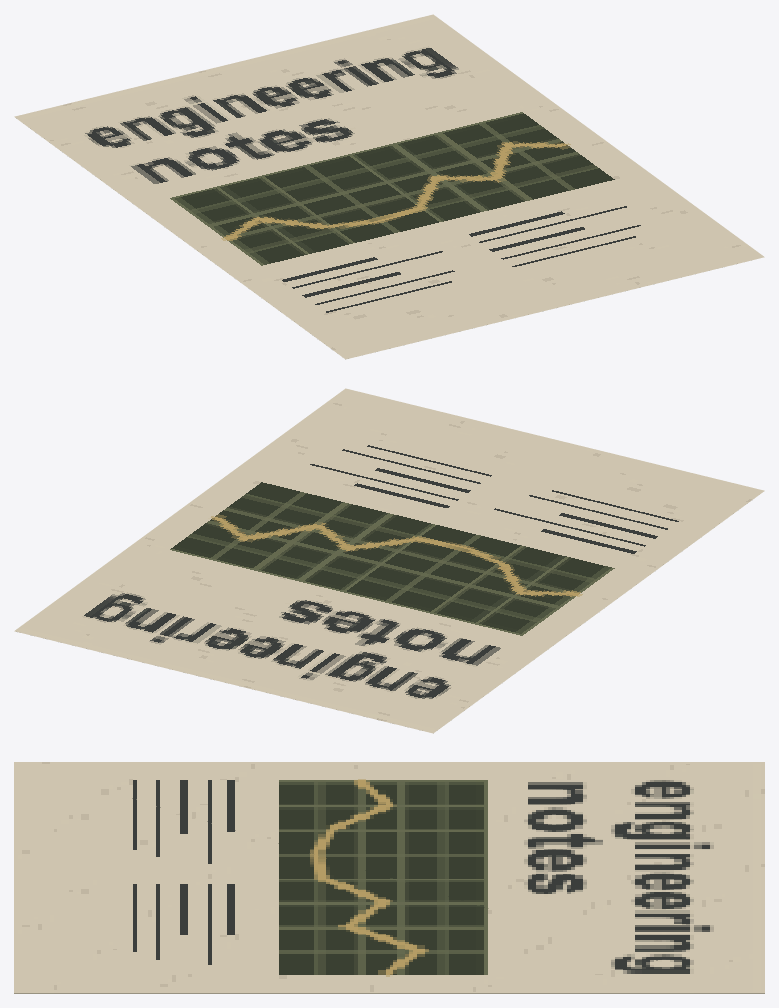
The model's file is blacksmith_prototypes.glb.
3 views of the same model, one above another, from view 1: azimuth 30°, elevation 25°; view 2: azimuth 150°, elevation 25°; view 3: azimuth 270°, elevation 25° (orthographic). The views are drawn at different scales.
Visible parts, largest first — view 1: block_report cover; view 2: block_report cover; view 3: block_report cover.
Boxes of the visible parts, x1,y1,x2,y2 form: block_report cover: [14, 14, 764, 359]; block_report cover: [14, 388, 764, 733]; block_report cover: [14, 762, 764, 993].
Size of the model in its own units: 0.1898 by 2.03e-05 by 0.26.
Materials: 1 (1 with a texture image).
